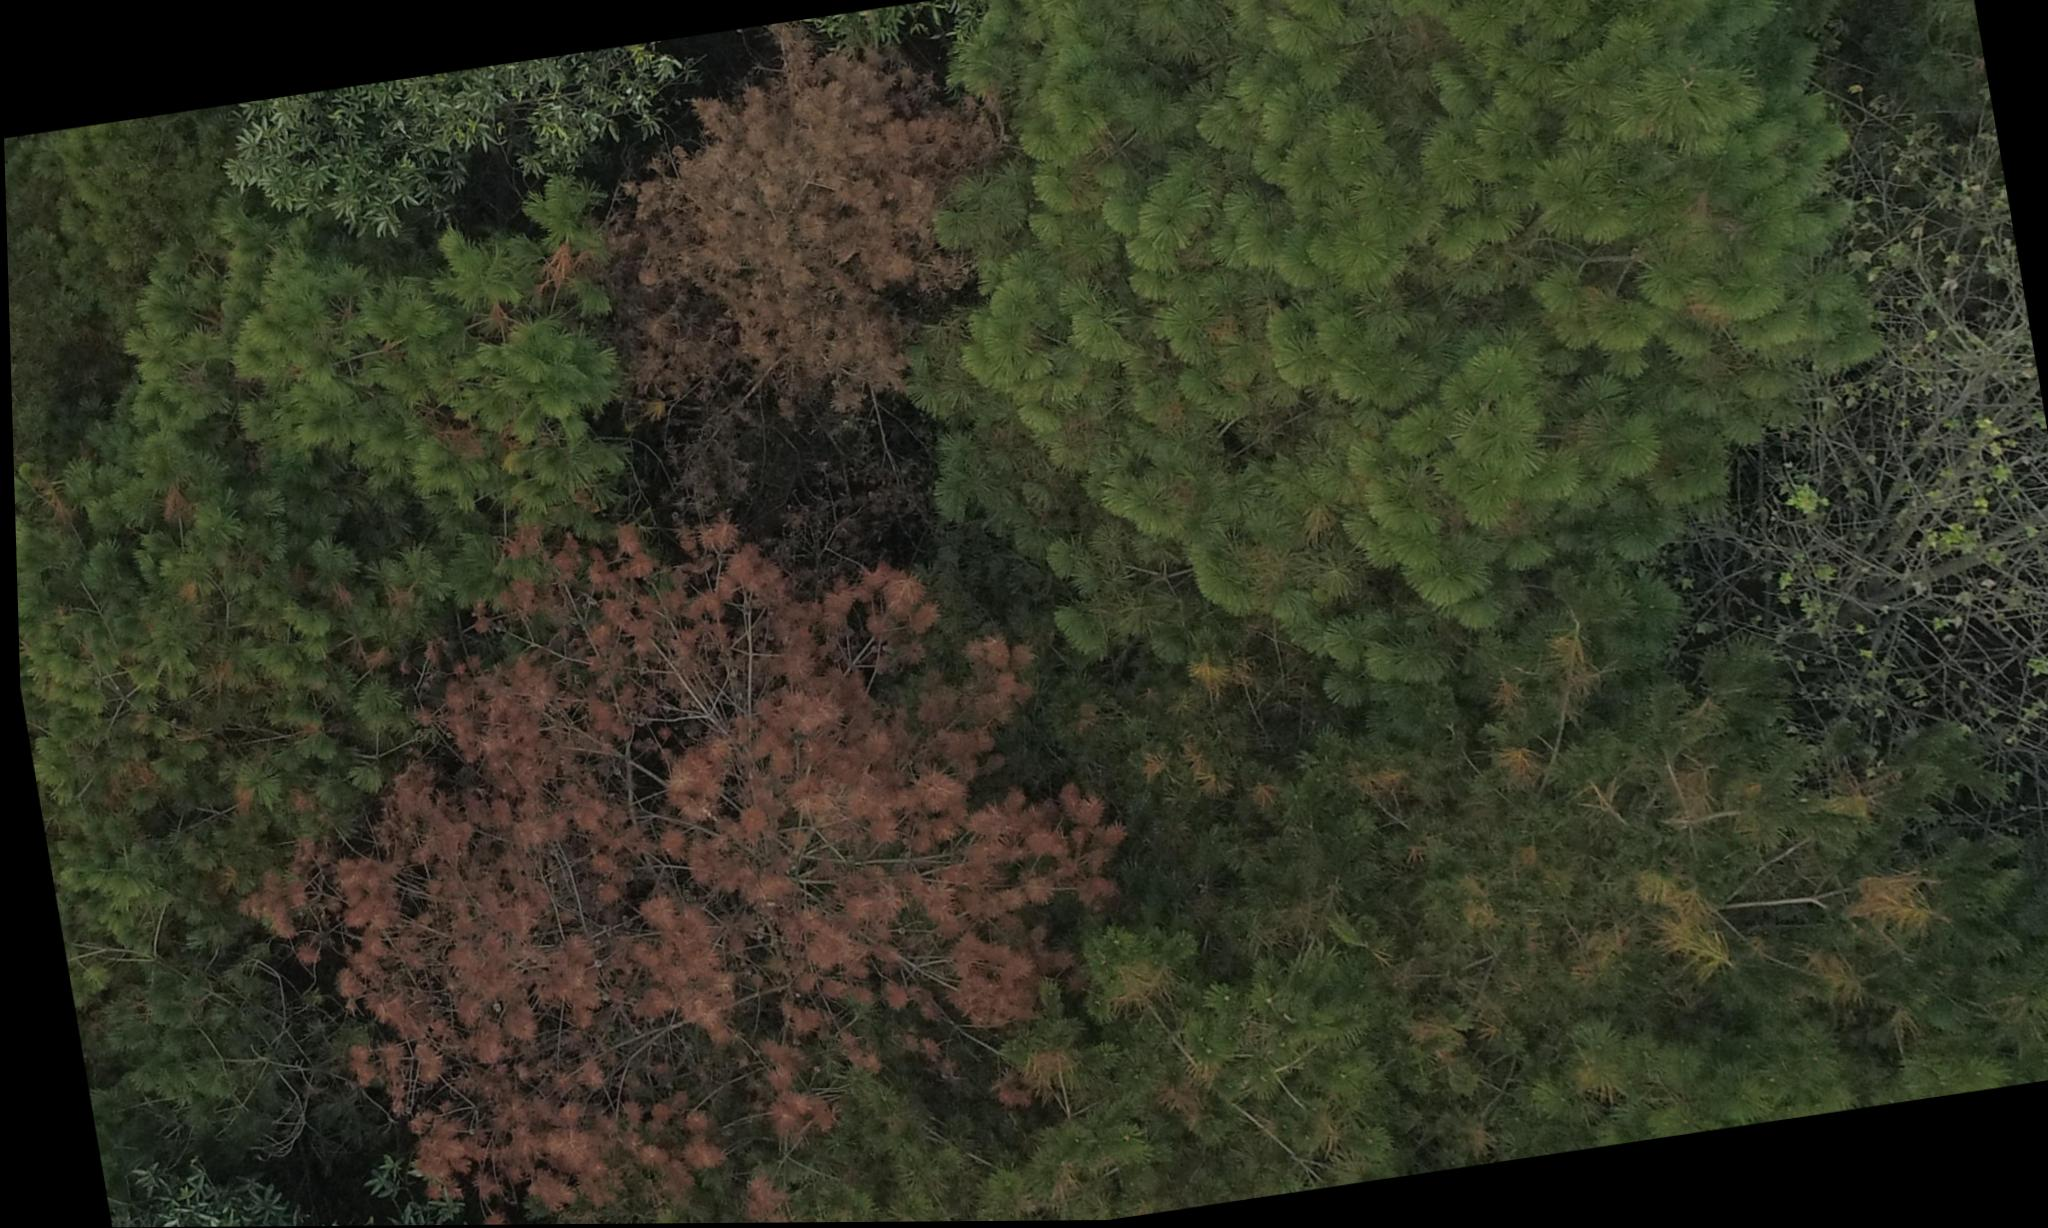heavy: (175, 471, 1156, 1227), (574, 7, 1026, 424)
light: (1310, 607, 1930, 1070)
